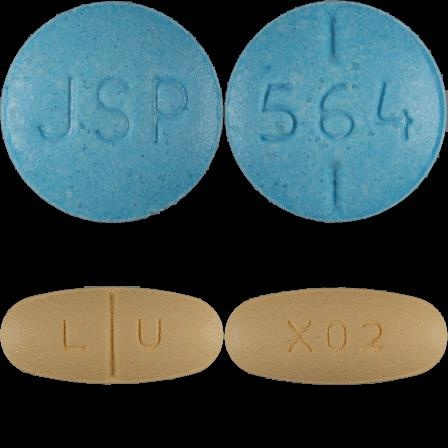35356-515: (0, 0, 224, 224)
